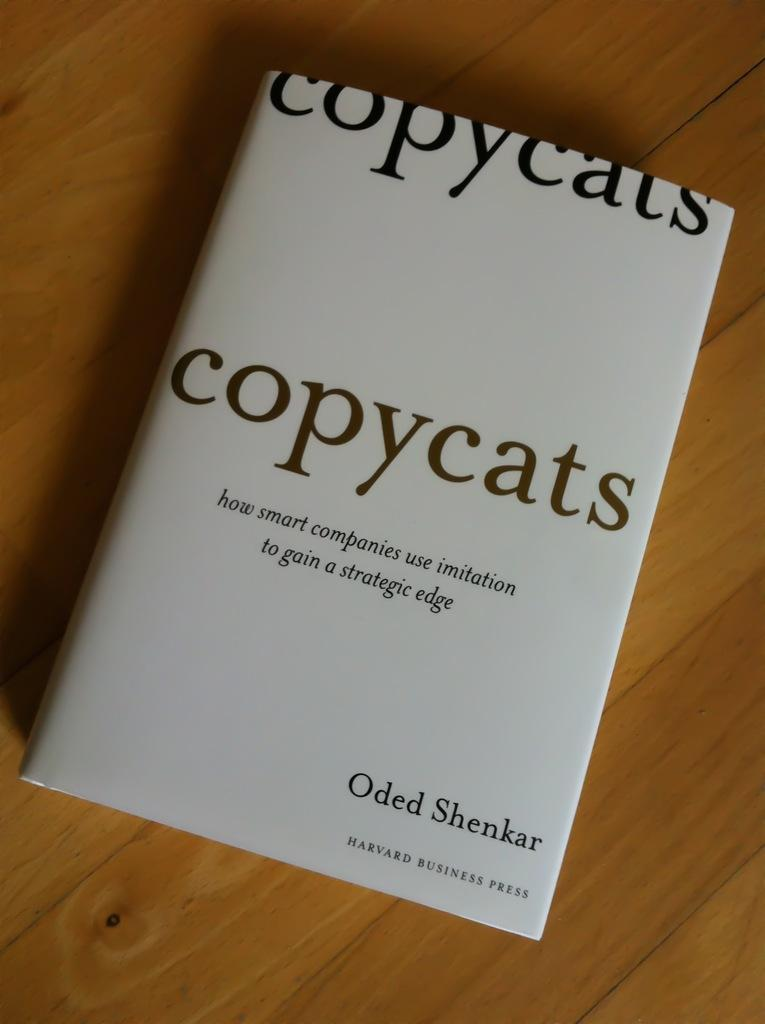book: (19, 84, 752, 966)
